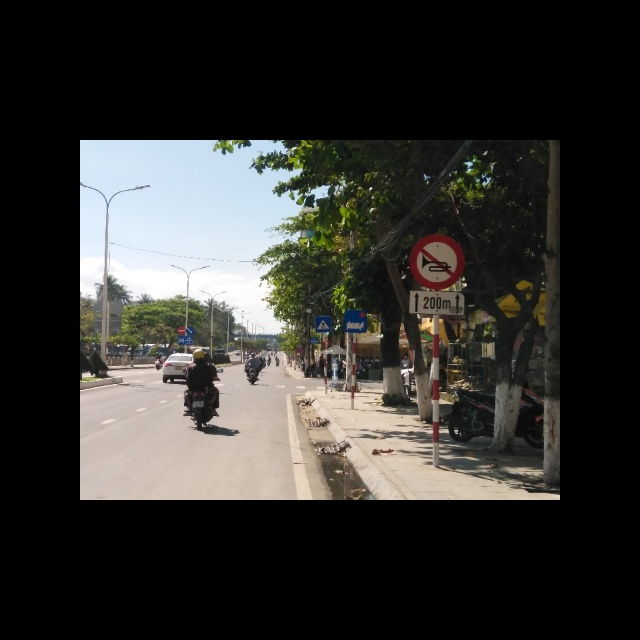Cấm xe tải: (410, 234, 463, 292)
Cấm xe xe khách: (345, 310, 367, 333)
Đường dành cho người đi bộ: (315, 316, 331, 333)
